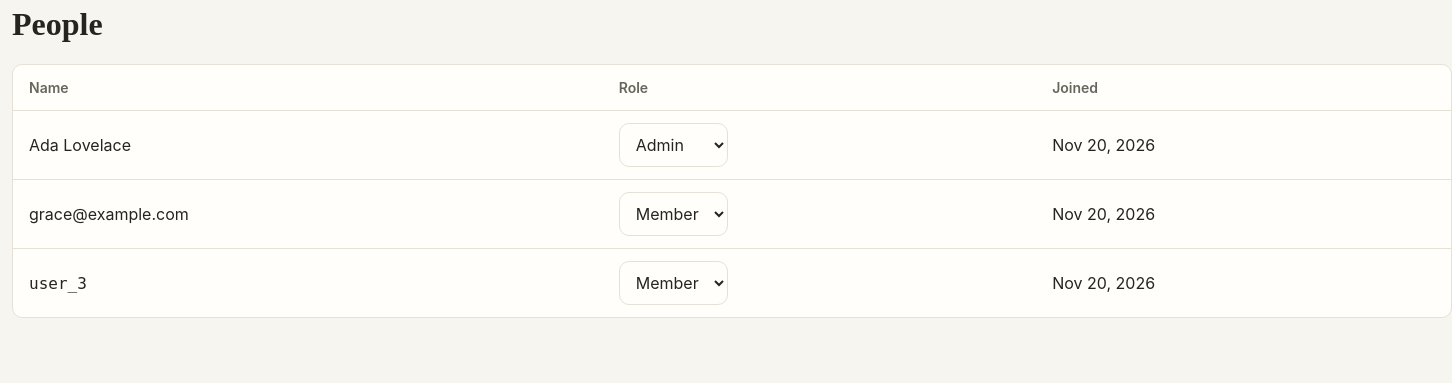
Test: PeoplePage › on a 409, keeps the old Role and says a Team needs an Admin; the next change clears it
The image size is (1452, 383).
Select "Admin" in the dropdown named "Role for grace@example.com". click: (673, 214)
box: top-left (619, 192), bottom-right (728, 236)
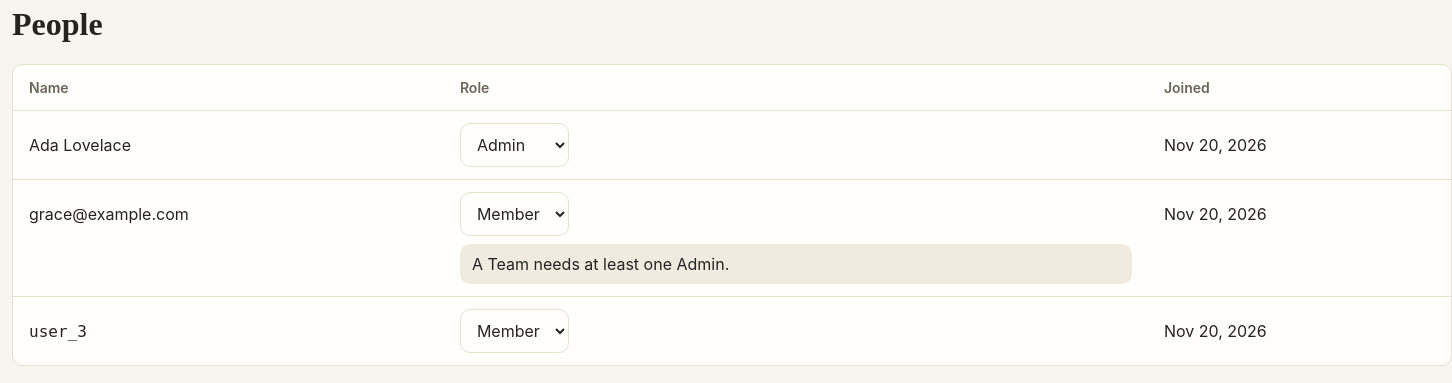
expect the message reads "A Team needs at least one Admin.": met, box top-left (472, 254), bottom-right (729, 274)
Select "Lead" in the dropdown named "Role for grace@example.com". click: (514, 214)
box: top-left (460, 192), bottom-right (569, 236)
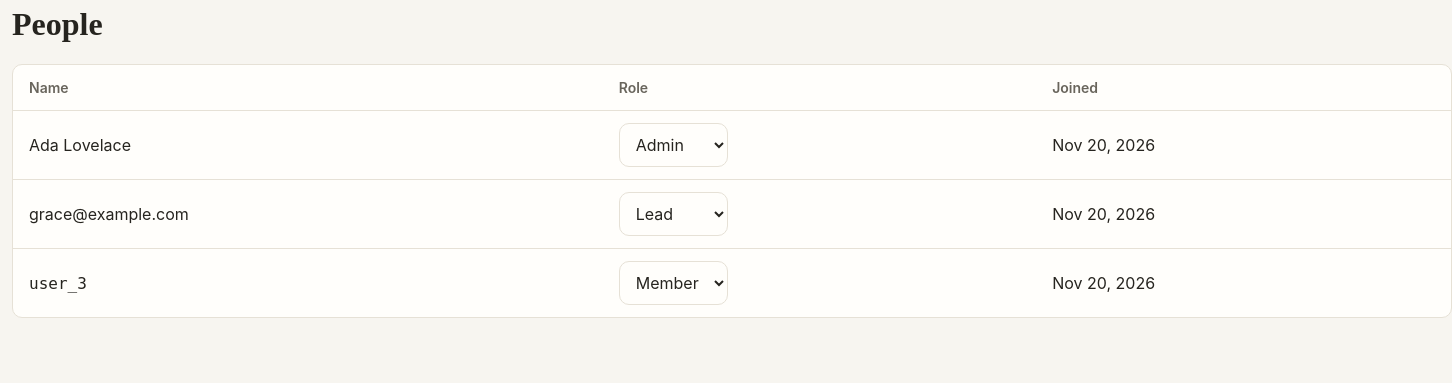
expect the message "A Team needs at least one Admin." is gone: met
